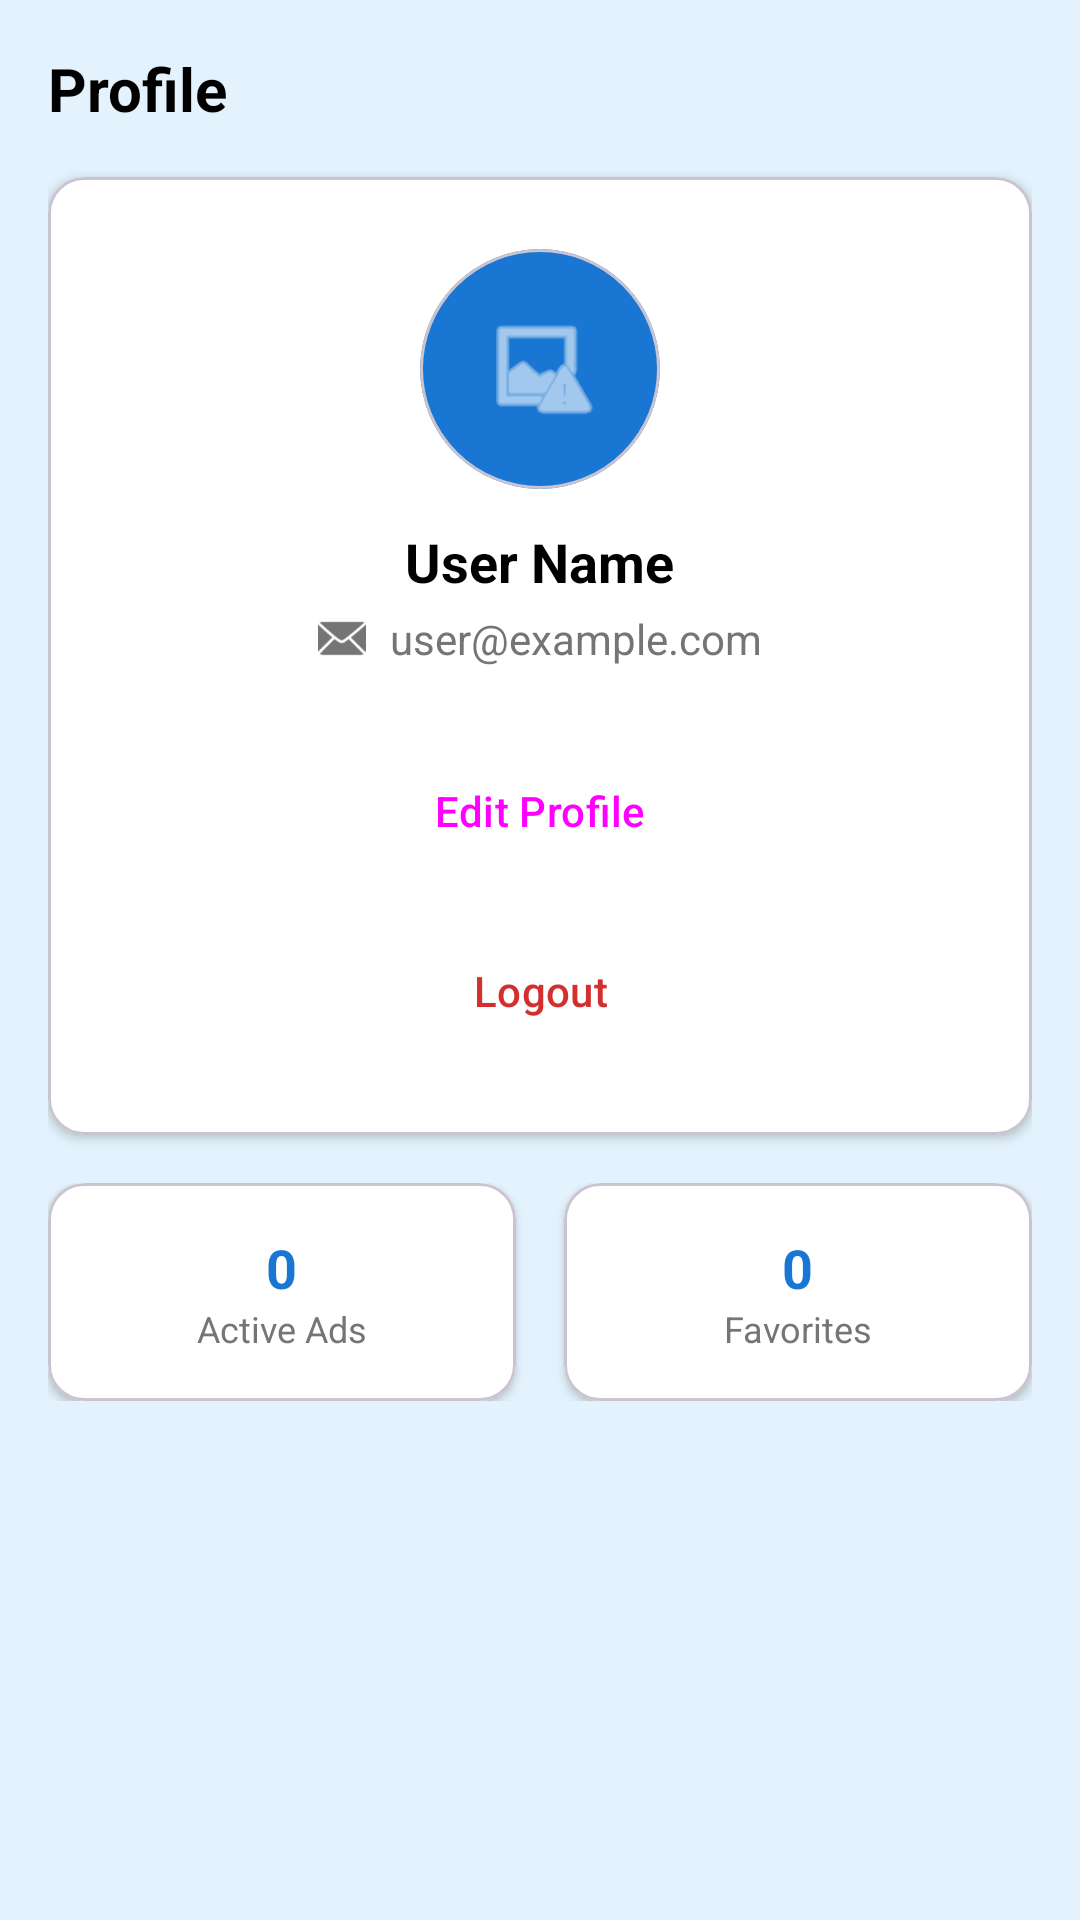

Icons on this 1080px x 1920px Android screen, each with the point to tap as (x=x, y=y):
email: (x=342, y=638)
